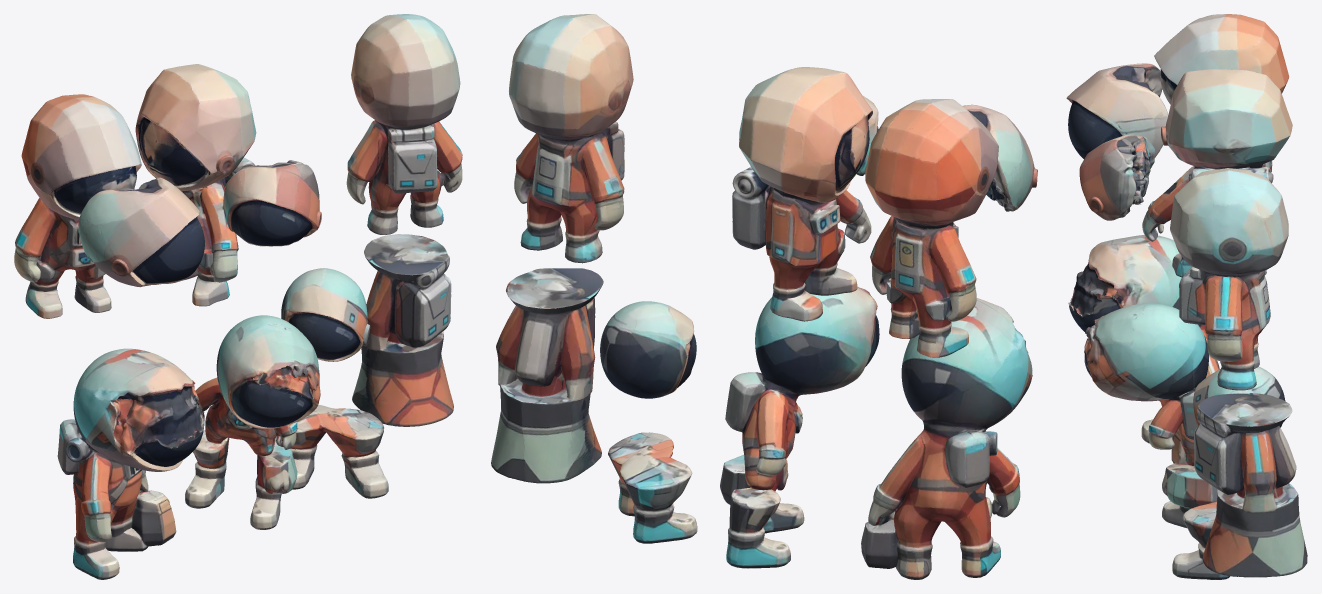
Rendered from player-main-transformed.glb.
The picture shows the model from 3 angles, left to right: view 1: azimuth 30°, elevation 25°; view 2: azimuth 150°, elevation 25°; view 3: azimuth 270°, elevation 25°; orthographic projection. The views are drawn at different scales.
Parts seen in each view (by area): view 1: input; view 2: input; view 3: input.
Part boxes in pixels (left/top/right/bottom): input: left=14, top=14, right=462, bottom=579; input: left=491, top=14, right=1037, bottom=579; input: left=1066, top=14, right=1307, bottom=579.
Size of the model in its own units: 0.9998 by 0.9887 by 0.5023.
1 material, 1 textured.
